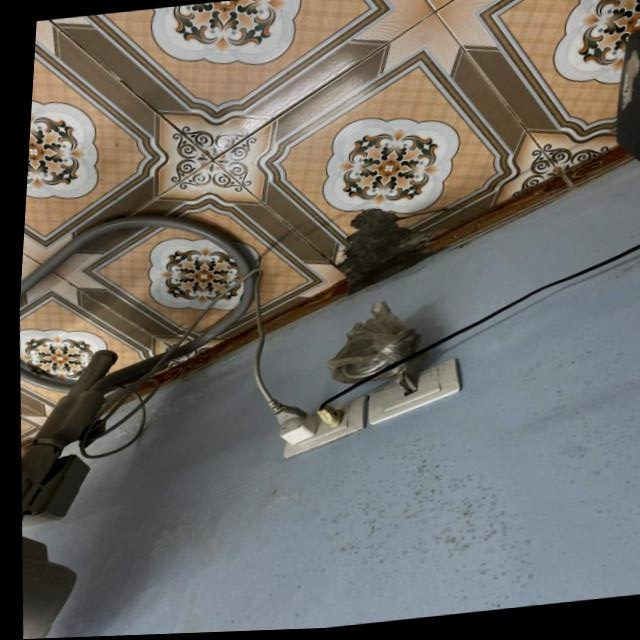outlet: (362, 358, 464, 426), (277, 395, 369, 461)
